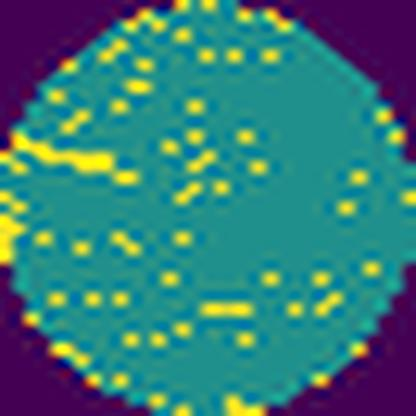Scratch: (12, 129, 147, 189)
